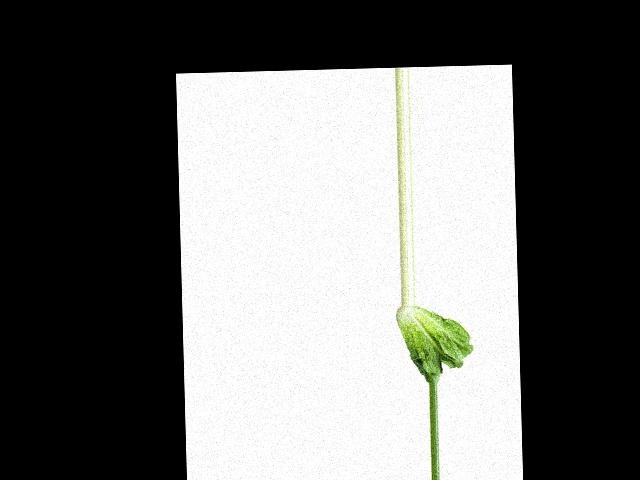lettuce: (395, 304, 475, 382)
